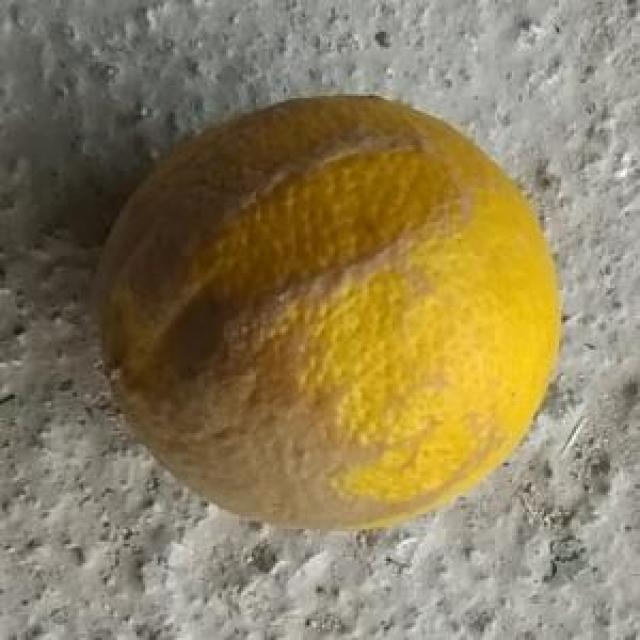lemon: (91, 85, 570, 530)
